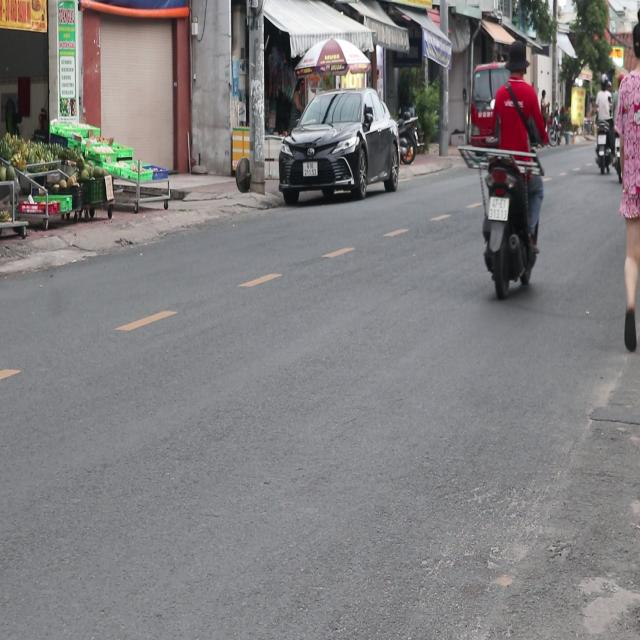licenseplate: (474, 38, 546, 297)
motorcyclist: (505, 39, 528, 79)
nohelmet: (488, 196, 508, 219)
